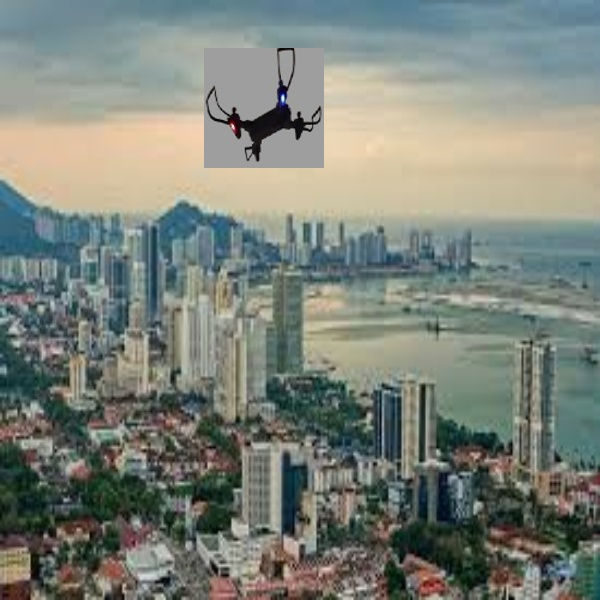drone: (208, 40, 327, 165)
